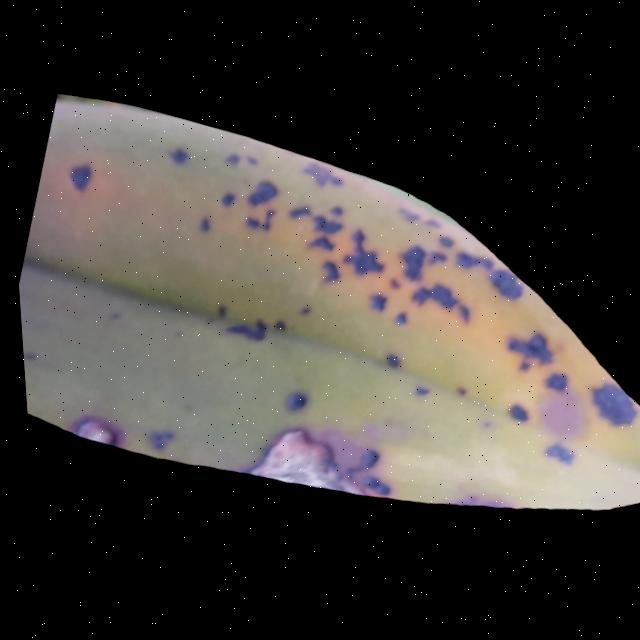mite: (200, 273, 315, 361), (202, 293, 290, 353), (496, 319, 555, 375), (270, 378, 312, 421), (480, 260, 524, 300), (219, 308, 266, 345), (493, 390, 533, 429), (241, 173, 279, 212), (535, 434, 573, 465), (277, 385, 305, 414), (537, 364, 566, 392), (499, 396, 527, 422), (361, 286, 387, 313), (164, 142, 190, 167), (214, 186, 236, 209), (378, 348, 398, 368), (266, 314, 285, 332), (209, 299, 226, 319)
